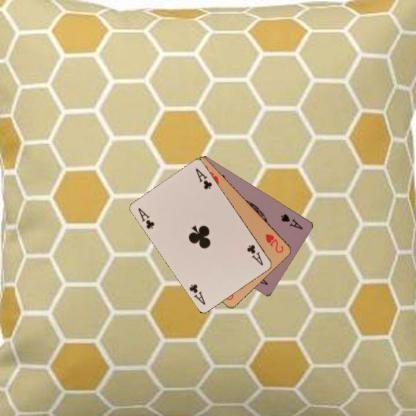2h: (263, 231, 285, 254)
Ac: (244, 242, 264, 267), (136, 205, 156, 230)
As: (278, 211, 304, 230)
